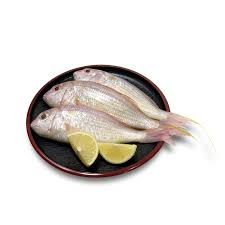Ikan Kerisi: (25, 106, 168, 150), (36, 80, 144, 120), (71, 65, 160, 94)
